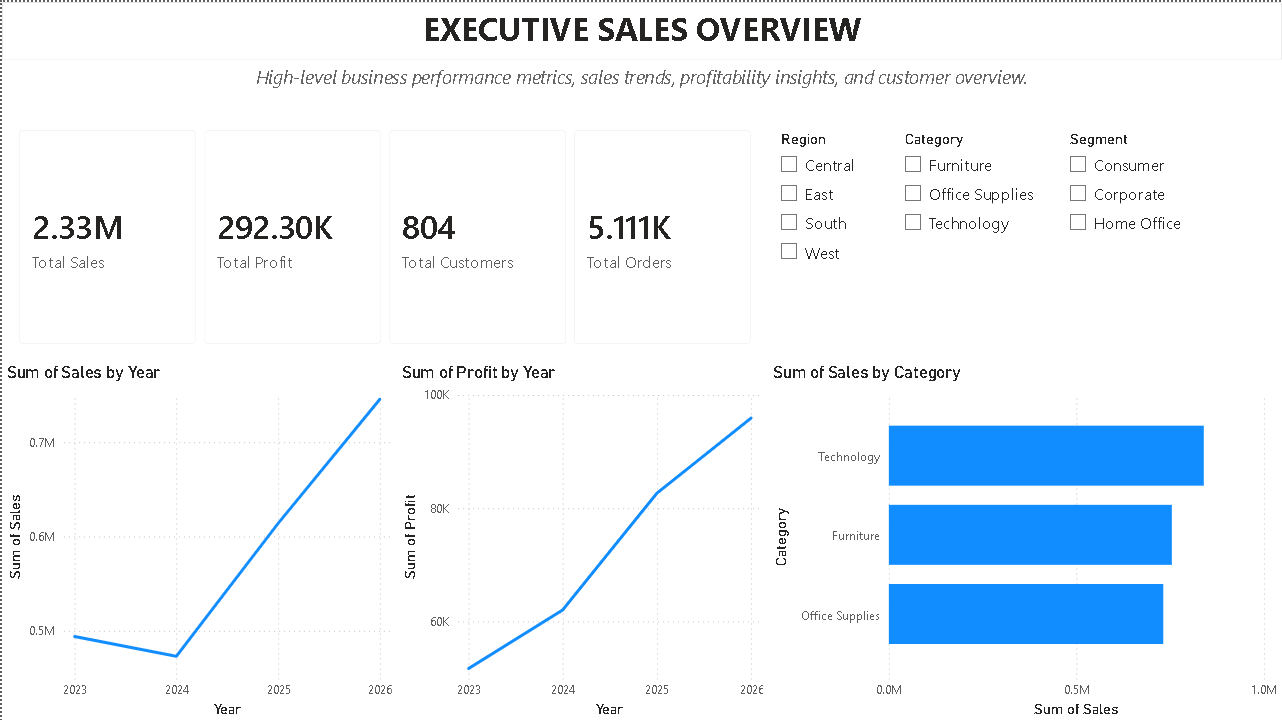

Layout of this report page (visuals, bound fields, positions):
{"tool":"powerbi","page":{"name":"Executive Dashboard","canvas":[1280,720],"ordinal":0},"visuals":[{"type":"cardVisual","fields":{"Data":["Sum(superstore_final.Sales)","Sum(superstore_final.Profit)","Count(superstore_final.Customer ID)","Count(superstore_final.Order ID)"]},"box":[0,111.2,766.2,248.8],"z":0},{"type":"lineChart","fields":{"Category":["superstore_final.Order Date.Variation.Date Hierarchy.Year","superstore_final.Order Date.Variation.Date Hierarchy.Quarter","superstore_final.Order Date.Variation.Date Hierarchy.Month","superstore_final.Order Date.Variation.Date Hierarchy.Day"],"Y":["Sum(superstore_final.Sales)"]},"box":[0,360,395,360],"z":1000},{"type":"lineChart","fields":{"Category":["superstore_final.Order Date.Variation.Date Hierarchy.Year","superstore_final.Order Date.Variation.Date Hierarchy.Quarter","superstore_final.Order Date.Variation.Date Hierarchy.Month","superstore_final.Order Date.Variation.Date Hierarchy.Day"],"Y":["Sum(superstore_final.Profit)"]},"box":[395,360,371.2,360],"z":2000},{"type":"clusteredBarChart","fields":{"Category":["superstore_final.Category"],"Y":["Sum(superstore_final.Sales)"]},"box":[766.2,360,513.8,360],"z":3000},{"type":"slicer","fields":{"Values":["superstore_final.Region"]},"box":[766.2,123.8,132.5,236.2],"z":4000},{"type":"slicer","fields":{"Values":["superstore_final.Category"]},"box":[890,123.8,165,236.2],"z":5000},{"type":"slicer","fields":{"Values":["superstore_final.Segment"]},"box":[1055,123.8,225,215],"z":6000},{"type":"textbox","box":[0,0,1280,57.5],"z":7000},{"type":"textbox","box":[0,57.5,1280,53.8],"z":8000}]}

Visuals, with their boxes in screenshot pixels (x1, y1, x2, y2), scaled from the page's 1280x720 canvas onto the 1282x720 screenshot:
cardVisual - Sum(superstore_final.Sales) x Sum(superstore_final.Profit): 0/111/767/360
lineChart - superstore_final.Order Date.Variation.Date Hierarchy.Year x superstore_final.Order Date.Variation.Date Hierarchy.Quarter: 0/360/396/719
lineChart - superstore_final.Order Date.Variation.Date Hierarchy.Year x superstore_final.Order Date.Variation.Date Hierarchy.Quarter: 396/360/767/719
clusteredBarChart - superstore_final.Category x Sum(superstore_final.Sales): 767/360/1281/719
slicer - superstore_final.Region: 767/124/900/360
slicer - superstore_final.Category: 891/124/1057/360
slicer - superstore_final.Segment: 1057/124/1281/339
textbox: 0/0/1281/58
textbox: 0/58/1281/111
